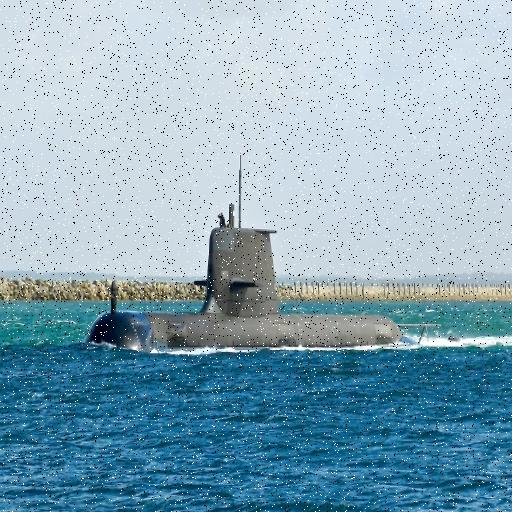submarine: (82, 214, 463, 350)
